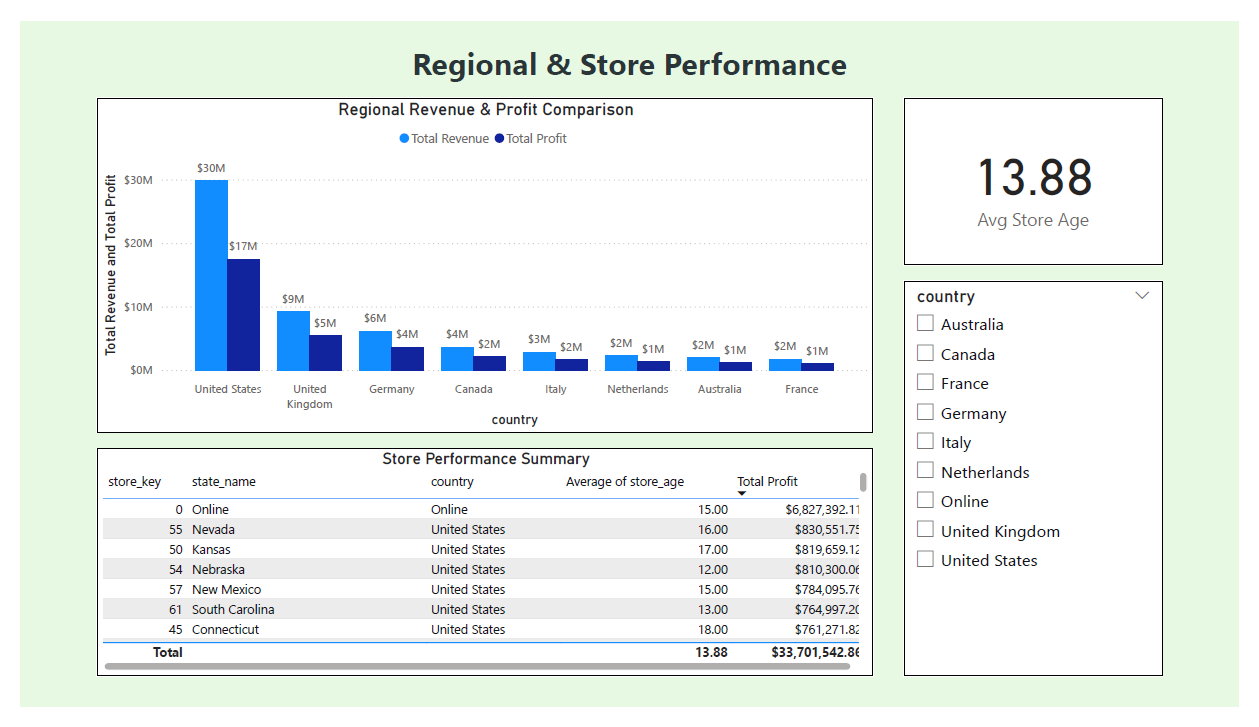

This screenshot's page, from the dashboard's own definition file:
{"tool":"powerbi","page":{"name":"Regional & Store Performance","canvas":[1280,720],"ordinal":2},"visuals":[{"type":"clusteredColumnChart","title":"Regional Revenue & Profit Comparison","fields":{"Category":["gold_dim_customers.country"],"Y":["gold_fact_sales.Total Revenue","gold_fact_sales.Total Profit"]},"box":[80,80,816,352],"z":0},{"type":"tableEx","title":"Store Performance Summary","fields":{"Values":["gold_dim_stores.store_key","gold_dim_stores.state_name","gold_dim_stores.country","Avg(gold_dim_stores.store_age)","gold_fact_sales.Total Profit"]},"box":[80,448,816,240],"z":1000},{"type":"card","title":"Average Store Age","fields":{"Values":["gold_dim_stores.Avg Store Age"]},"box":[928,80,272,176],"z":2000},{"type":"slicer","fields":{"Values":["gold_dim_stores.country"]},"box":[928,272,272,416],"z":3000},{"type":"textbox","box":[80,16,1120,64],"z":4000}]}

Visuals, with their boxes in screenshot pixels (x1, y1, x2, y2), scaled from the page's 1280x720 canvas onto the 1259x727 screenshot:
"Regional Revenue & Profit Comparison" clusteredColumnChart: 79:81:881:436
"Store Performance Summary" tableEx: 79:452:881:695
"Average Store Age" card: 913:81:1180:258
slicer - gold_dim_stores.country: 913:275:1180:695
textbox: 79:16:1180:81
